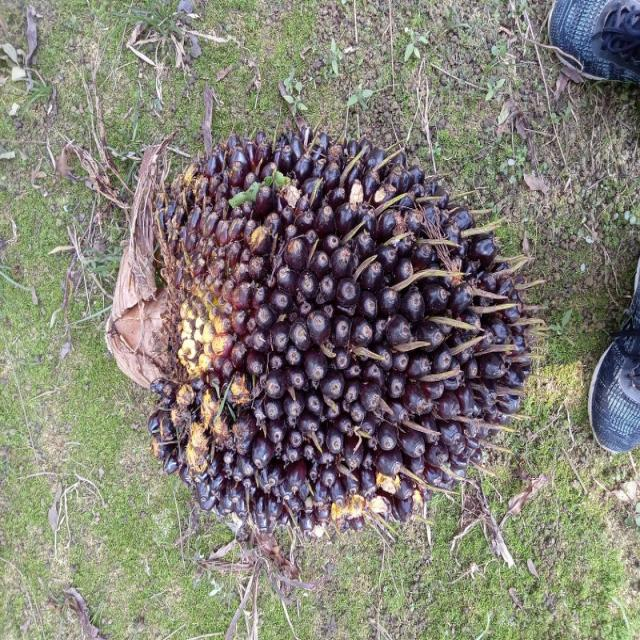fraksi 00: (148, 139, 530, 538)
